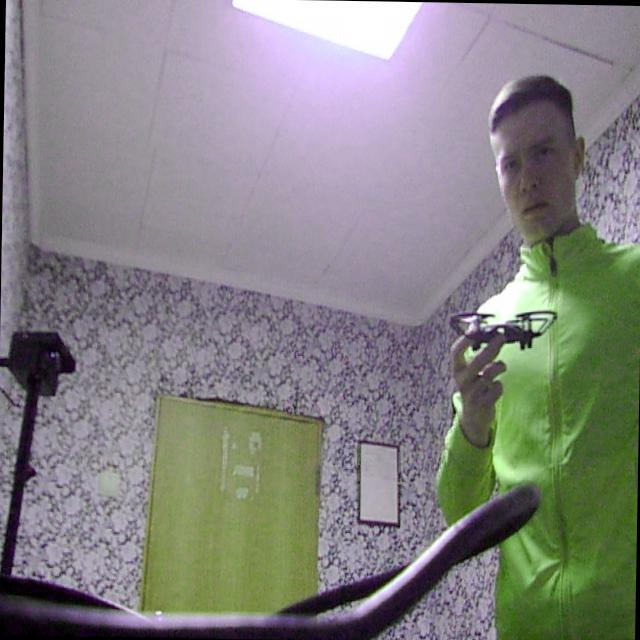drone: (434, 284, 562, 364)
